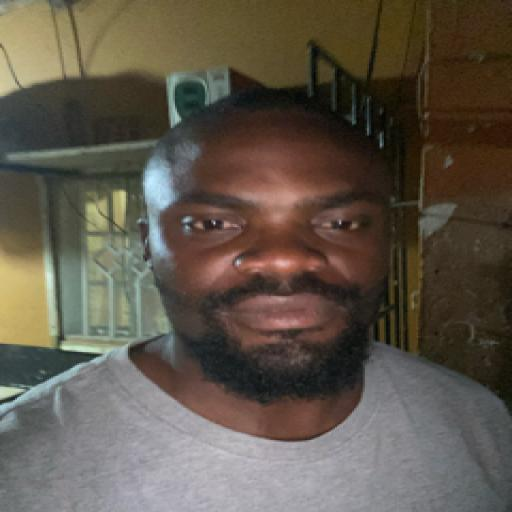JEANLUC: (139, 102, 407, 404)
